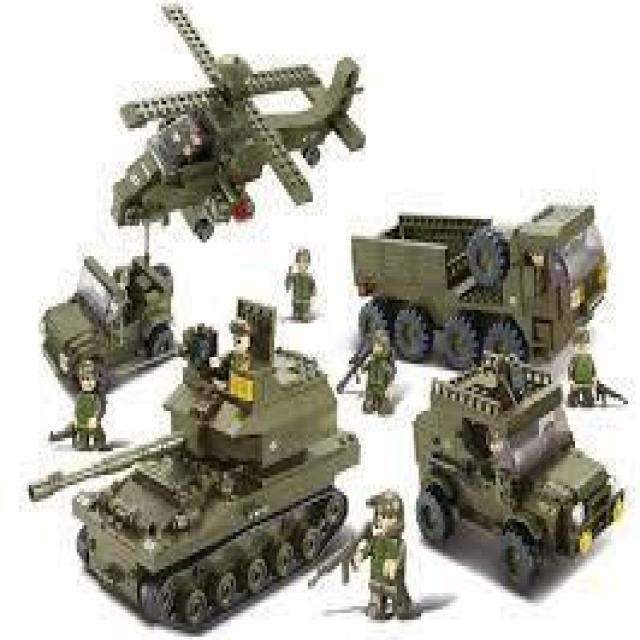Tanks: (74, 363, 337, 610), (415, 372, 622, 568)
